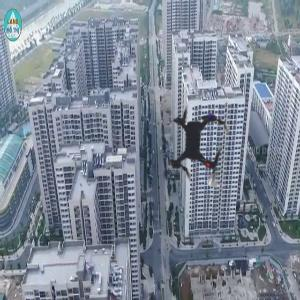drone: (137, 82, 265, 210)
